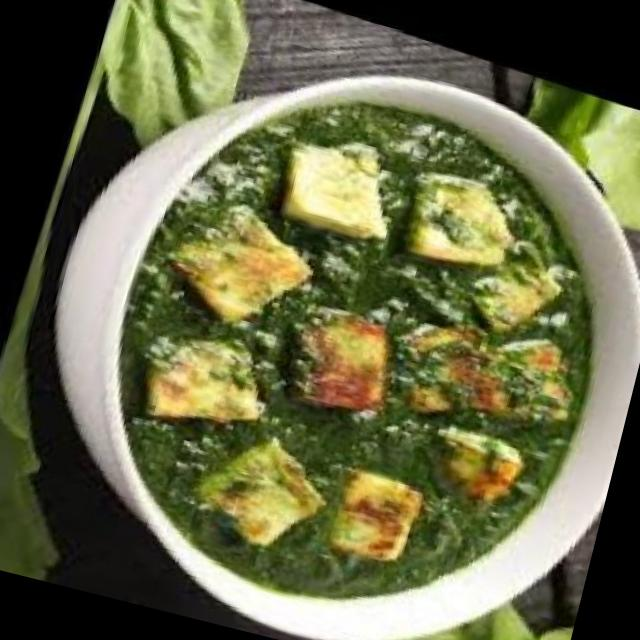palak_paneer: (46, 33, 640, 640)
